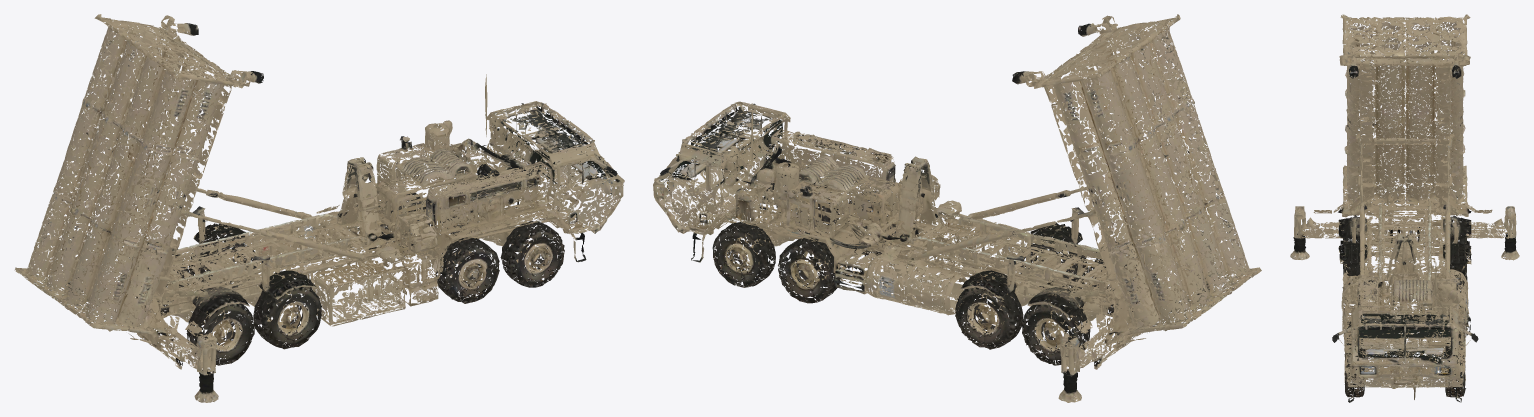
Rendered from thaad-2.glb.
3 views of the same model, side by side, from view 1: azimuth 30°, elevation 25°; view 2: azimuth 150°, elevation 25°; view 3: azimuth 270°, elevation 25° (orthographic). The views are drawn at different scales.
Parts seen in each view (by area): view 1: tripo_node_19b8fc11_tripo_mat_19b8fc11_0.016, tripo_node_19b8fc11_tripo_mat_19b8fc11_0.028, tripo_node_19b8fc11_tripo_mat_19b8fc11_0.015, tripo_node_19b8fc11_tripo_mat_19b8fc11_0.021, tripo_node_19b8fc11, tripo_node_19b8fc11_tripo_mat_19b8fc11_0.020, tripo_node_19b8fc11_tripo_mat_19b8fc11_0.029, tripo_node_19b8fc11_tripo_mat_19b8fc11_0.019, tripo_node_19b8fc11_tripo_mat_19b8fc11_0.032, tripo_node_19b8fc11_tripo_mat_19b8fc11_0.001, tripo_node_19b8fc11_tripo_mat_19b8fc11_0.022, tripo_node_19b8fc11_tripo_mat_19b8fc11_0.017 (+21 smaller); view 2: tripo_node_19b8fc11, tripo_node_19b8fc11_tripo_mat_19b8fc11_0.006, tripo_node_19b8fc11_tripo_mat_19b8fc11_0.002, tripo_node_19b8fc11_tripo_mat_19b8fc11_0.015, tripo_node_19b8fc11_tripo_mat_19b8fc11_0.012, tripo_node_19b8fc11_tripo_mat_19b8fc11_0.008, tripo_node_19b8fc11_tripo_mat_19b8fc11_0.009, tripo_node_19b8fc11_tripo_mat_19b8fc11_0.011, tripo_node_19b8fc11_tripo_mat_19b8fc11_0.003, tripo_node_19b8fc11_tripo_mat_19b8fc11_0.001, tripo_node_19b8fc11_tripo_mat_19b8fc11_0.029, tripo_node_19b8fc11_tripo_mat_19b8fc11_0.032 (+21 smaller); view 3: tripo_node_19b8fc11_tripo_mat_19b8fc11_0.015, tripo_node_19b8fc11, tripo_node_19b8fc11_tripo_mat_19b8fc11_0.001, tripo_node_19b8fc11_tripo_mat_19b8fc11_0.021, tripo_node_19b8fc11_tripo_mat_19b8fc11_0.002, tripo_node_19b8fc11_tripo_mat_19b8fc11_0.011, tripo_node_19b8fc11_tripo_mat_19b8fc11_0.012, tripo_node_19b8fc11_tripo_mat_19b8fc11_0.030, tripo_node_19b8fc11_tripo_mat_19b8fc11_0.028, tripo_node_19b8fc11_tripo_mat_19b8fc11_0.006, tripo_node_19b8fc11_tripo_mat_19b8fc11_0.016, tripo_node_19b8fc11_tripo_mat_19b8fc11_0.029 (+22 smaller).
Part boxes in pixels (x1,y1,x2,y2): tripo_node_19b8fc11_tripo_mat_19b8fc11_0.016: (111,64,464,363); tripo_node_19b8fc11_tripo_mat_19b8fc11_0.028: (64,171,227,369); tripo_node_19b8fc11_tripo_mat_19b8fc11_0.015: (94,45,263,239); tripo_node_19b8fc11_tripo_mat_19b8fc11_0.021: (465,121,624,285); tripo_node_19b8fc11: (55,14,203,203); tripo_node_19b8fc11_tripo_mat_19b8fc11_0.020: (340,144,620,319); tripo_node_19b8fc11_tripo_mat_19b8fc11_0.029: (61,171,215,349); tripo_node_19b8fc11_tripo_mat_19b8fc11_0.019: (332,183,500,319); tripo_node_19b8fc11_tripo_mat_19b8fc11_0.032: (117,58,263,311); tripo_node_19b8fc11_tripo_mat_19b8fc11_0.001: (65,25,202,207); tripo_node_19b8fc11_tripo_mat_19b8fc11_0.022: (465,135,623,287); tripo_node_19b8fc11_tripo_mat_19b8fc11_0.017: (319,162,487,303); tripo_node_19b8fc11: (1012,46,1177,250); tripo_node_19b8fc11_tripo_mat_19b8fc11_0.006: (889,217,1100,363); tripo_node_19b8fc11_tripo_mat_19b8fc11_0.002: (1047,55,1210,402); tripo_node_19b8fc11_tripo_mat_19b8fc11_0.015: (1060,14,1221,207); tripo_node_19b8fc11_tripo_mat_19b8fc11_0.012: (653,123,811,287); tripo_node_19b8fc11_tripo_mat_19b8fc11_0.008: (778,163,1082,306); tripo_node_19b8fc11_tripo_mat_19b8fc11_0.009: (785,185,938,308); tripo_node_19b8fc11_tripo_mat_19b8fc11_0.011: (654,139,960,287); tripo_node_19b8fc11_tripo_mat_19b8fc11_0.003: (1051,172,1221,363); tripo_node_19b8fc11_tripo_mat_19b8fc11_0.001: (1046,47,1181,223); tripo_node_19b8fc11_tripo_mat_19b8fc11_0.029: (1123,125,1256,302); tripo_node_19b8fc11_tripo_mat_19b8fc11_0.032: (1072,15,1205,324); tripo_node_19b8fc11_tripo_mat_19b8fc11_0.015: (1340,14,1449,138); tripo_node_19b8fc11: (1405,14,1470,154); tripo_node_19b8fc11_tripo_mat_19b8fc11_0.001: (1405,17,1463,151); tripo_node_19b8fc11_tripo_mat_19b8fc11_0.021: (1344,290,1405,402); tripo_node_19b8fc11_tripo_mat_19b8fc11_0.002: (1405,36,1519,266); tripo_node_19b8fc11_tripo_mat_19b8fc11_0.011: (1393,234,1478,393); tripo_node_19b8fc11_tripo_mat_19b8fc11_0.012: (1406,280,1474,402); tripo_node_19b8fc11_tripo_mat_19b8fc11_0.030: (1359,91,1405,249); tripo_node_19b8fc11_tripo_mat_19b8fc11_0.028: (1301,97,1405,266); tripo_node_19b8fc11_tripo_mat_19b8fc11_0.006: (1405,157,1471,299); tripo_node_19b8fc11_tripo_mat_19b8fc11_0.016: (1338,17,1433,337); tripo_node_19b8fc11_tripo_mat_19b8fc11_0.029: (1346,96,1405,227).
Bounding box in the file's own units: 1 × 0.5466 × 0.4696.
Materials: 1 (1 with a texture image).
